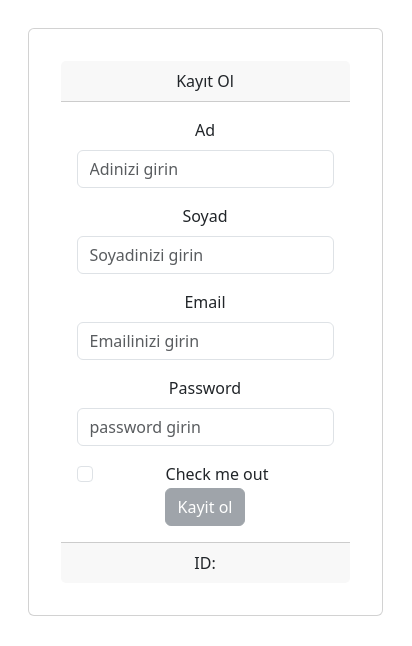
Test: register page › error messages › name input throws error fot 2 chars
In the field with test id "ad-input": (206, 169) x1=77 y1=150 x2=334 y2=188, type "hu"
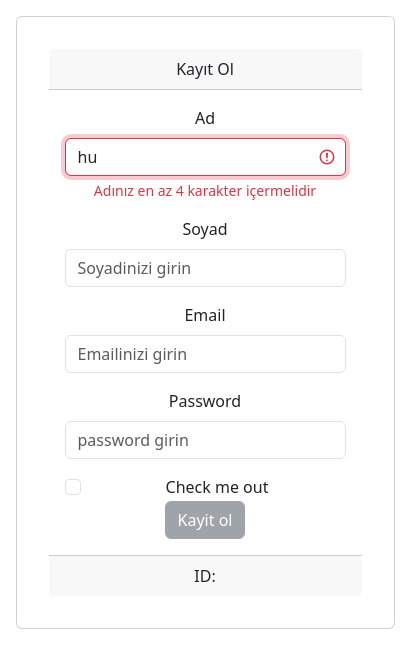
expect the text "Adınız en az 4 karakter içermelidir" is shown: met, box x1=94 y1=180 x2=316 y2=200
